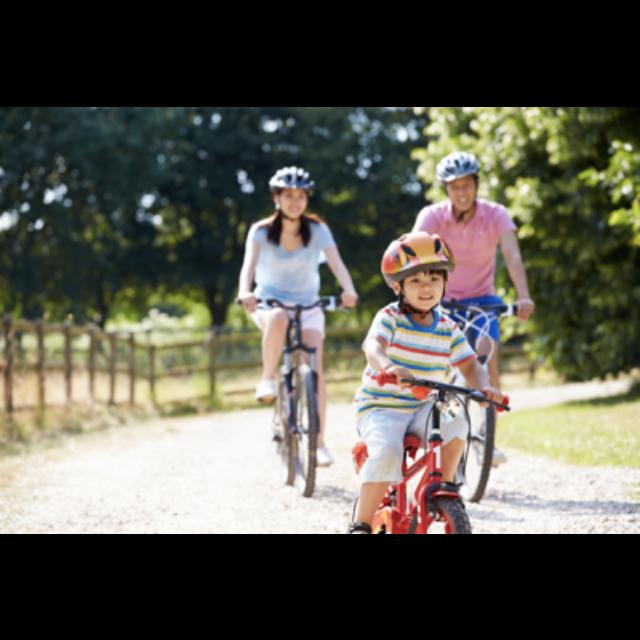With Helmet: (376, 222, 462, 312)
